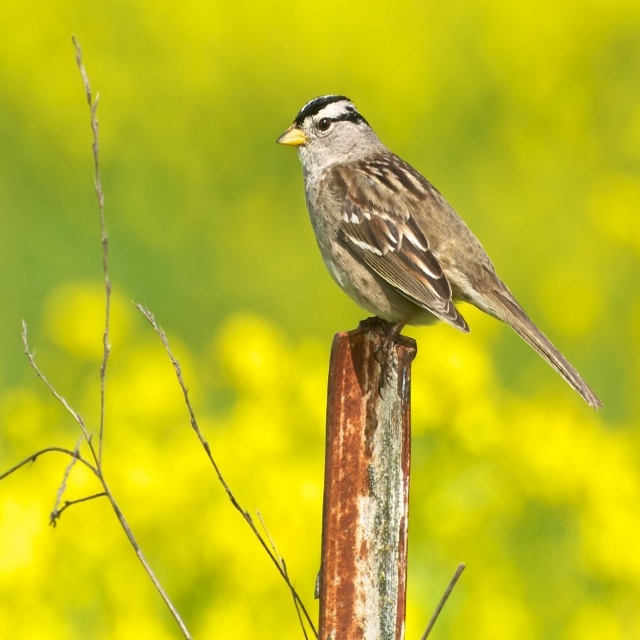Sparrow: (272, 88, 603, 411)
